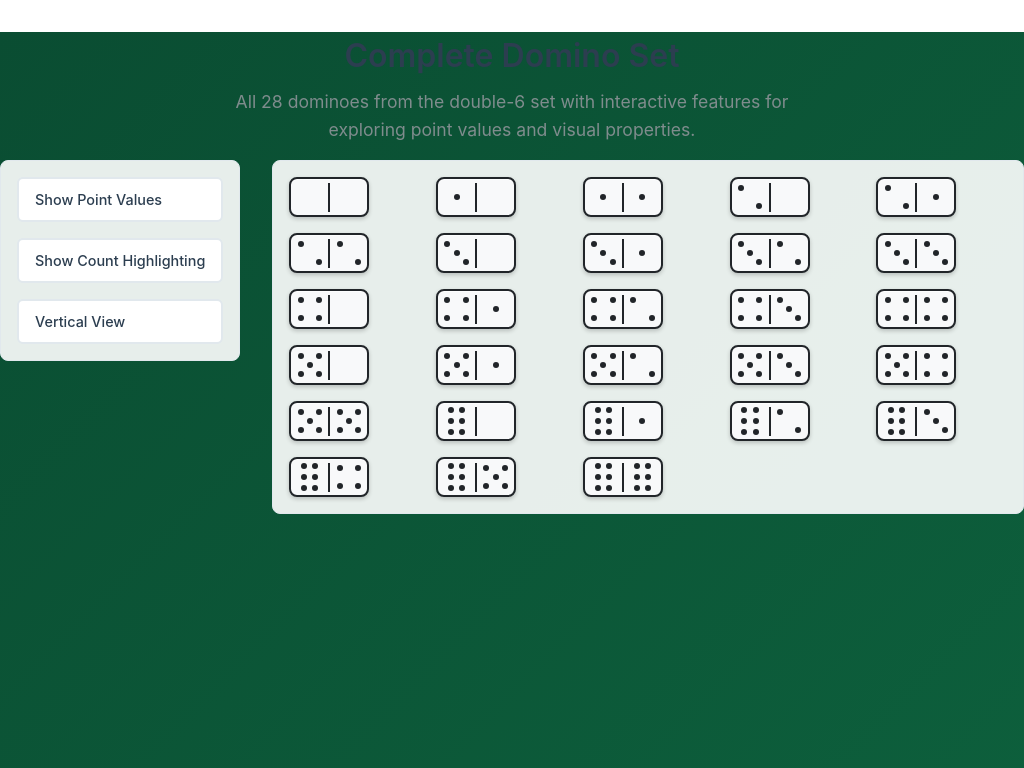
Test: DominoesSection › Interactive Controls › toggles point value display
The image size is (1024, 768).
# Click to show point values
Step 1. Click the button with test id "toggle-point-values" → (120, 200), box x1=17 y1=177 x2=223 y2=222
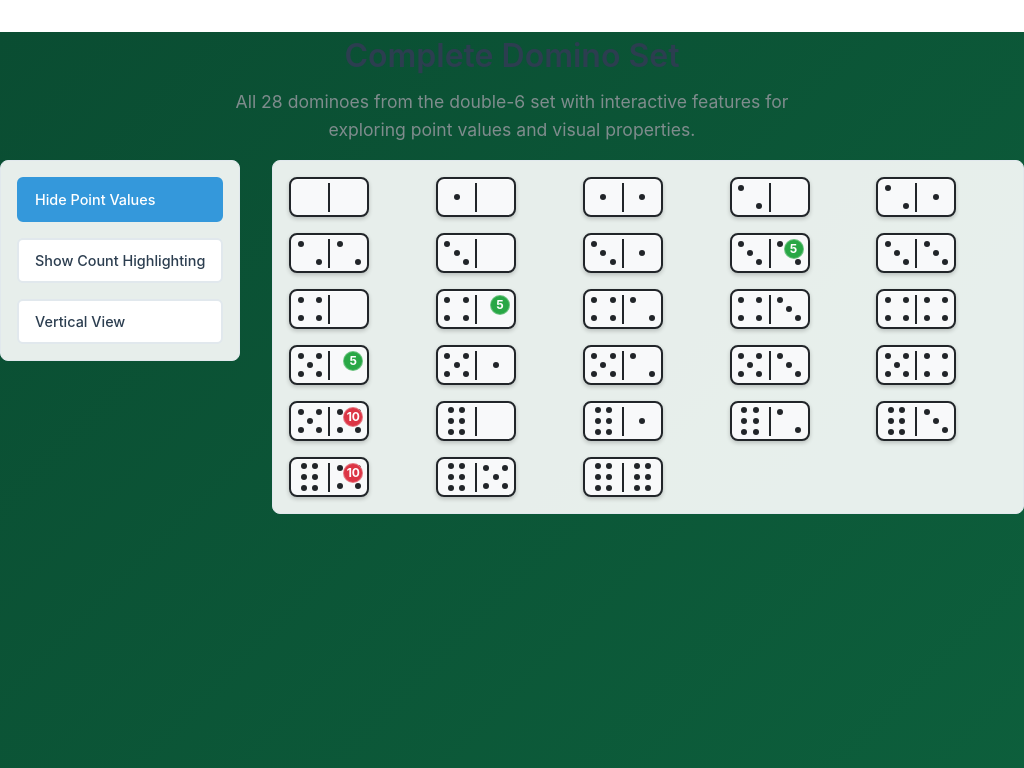
Expected: the 3rd text "5" is shown, x1=343 y1=351 x2=363 y2=371
